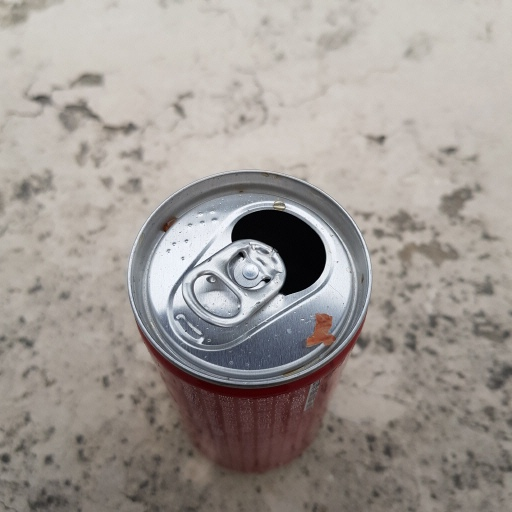Metal_0: (128, 168, 375, 476)
